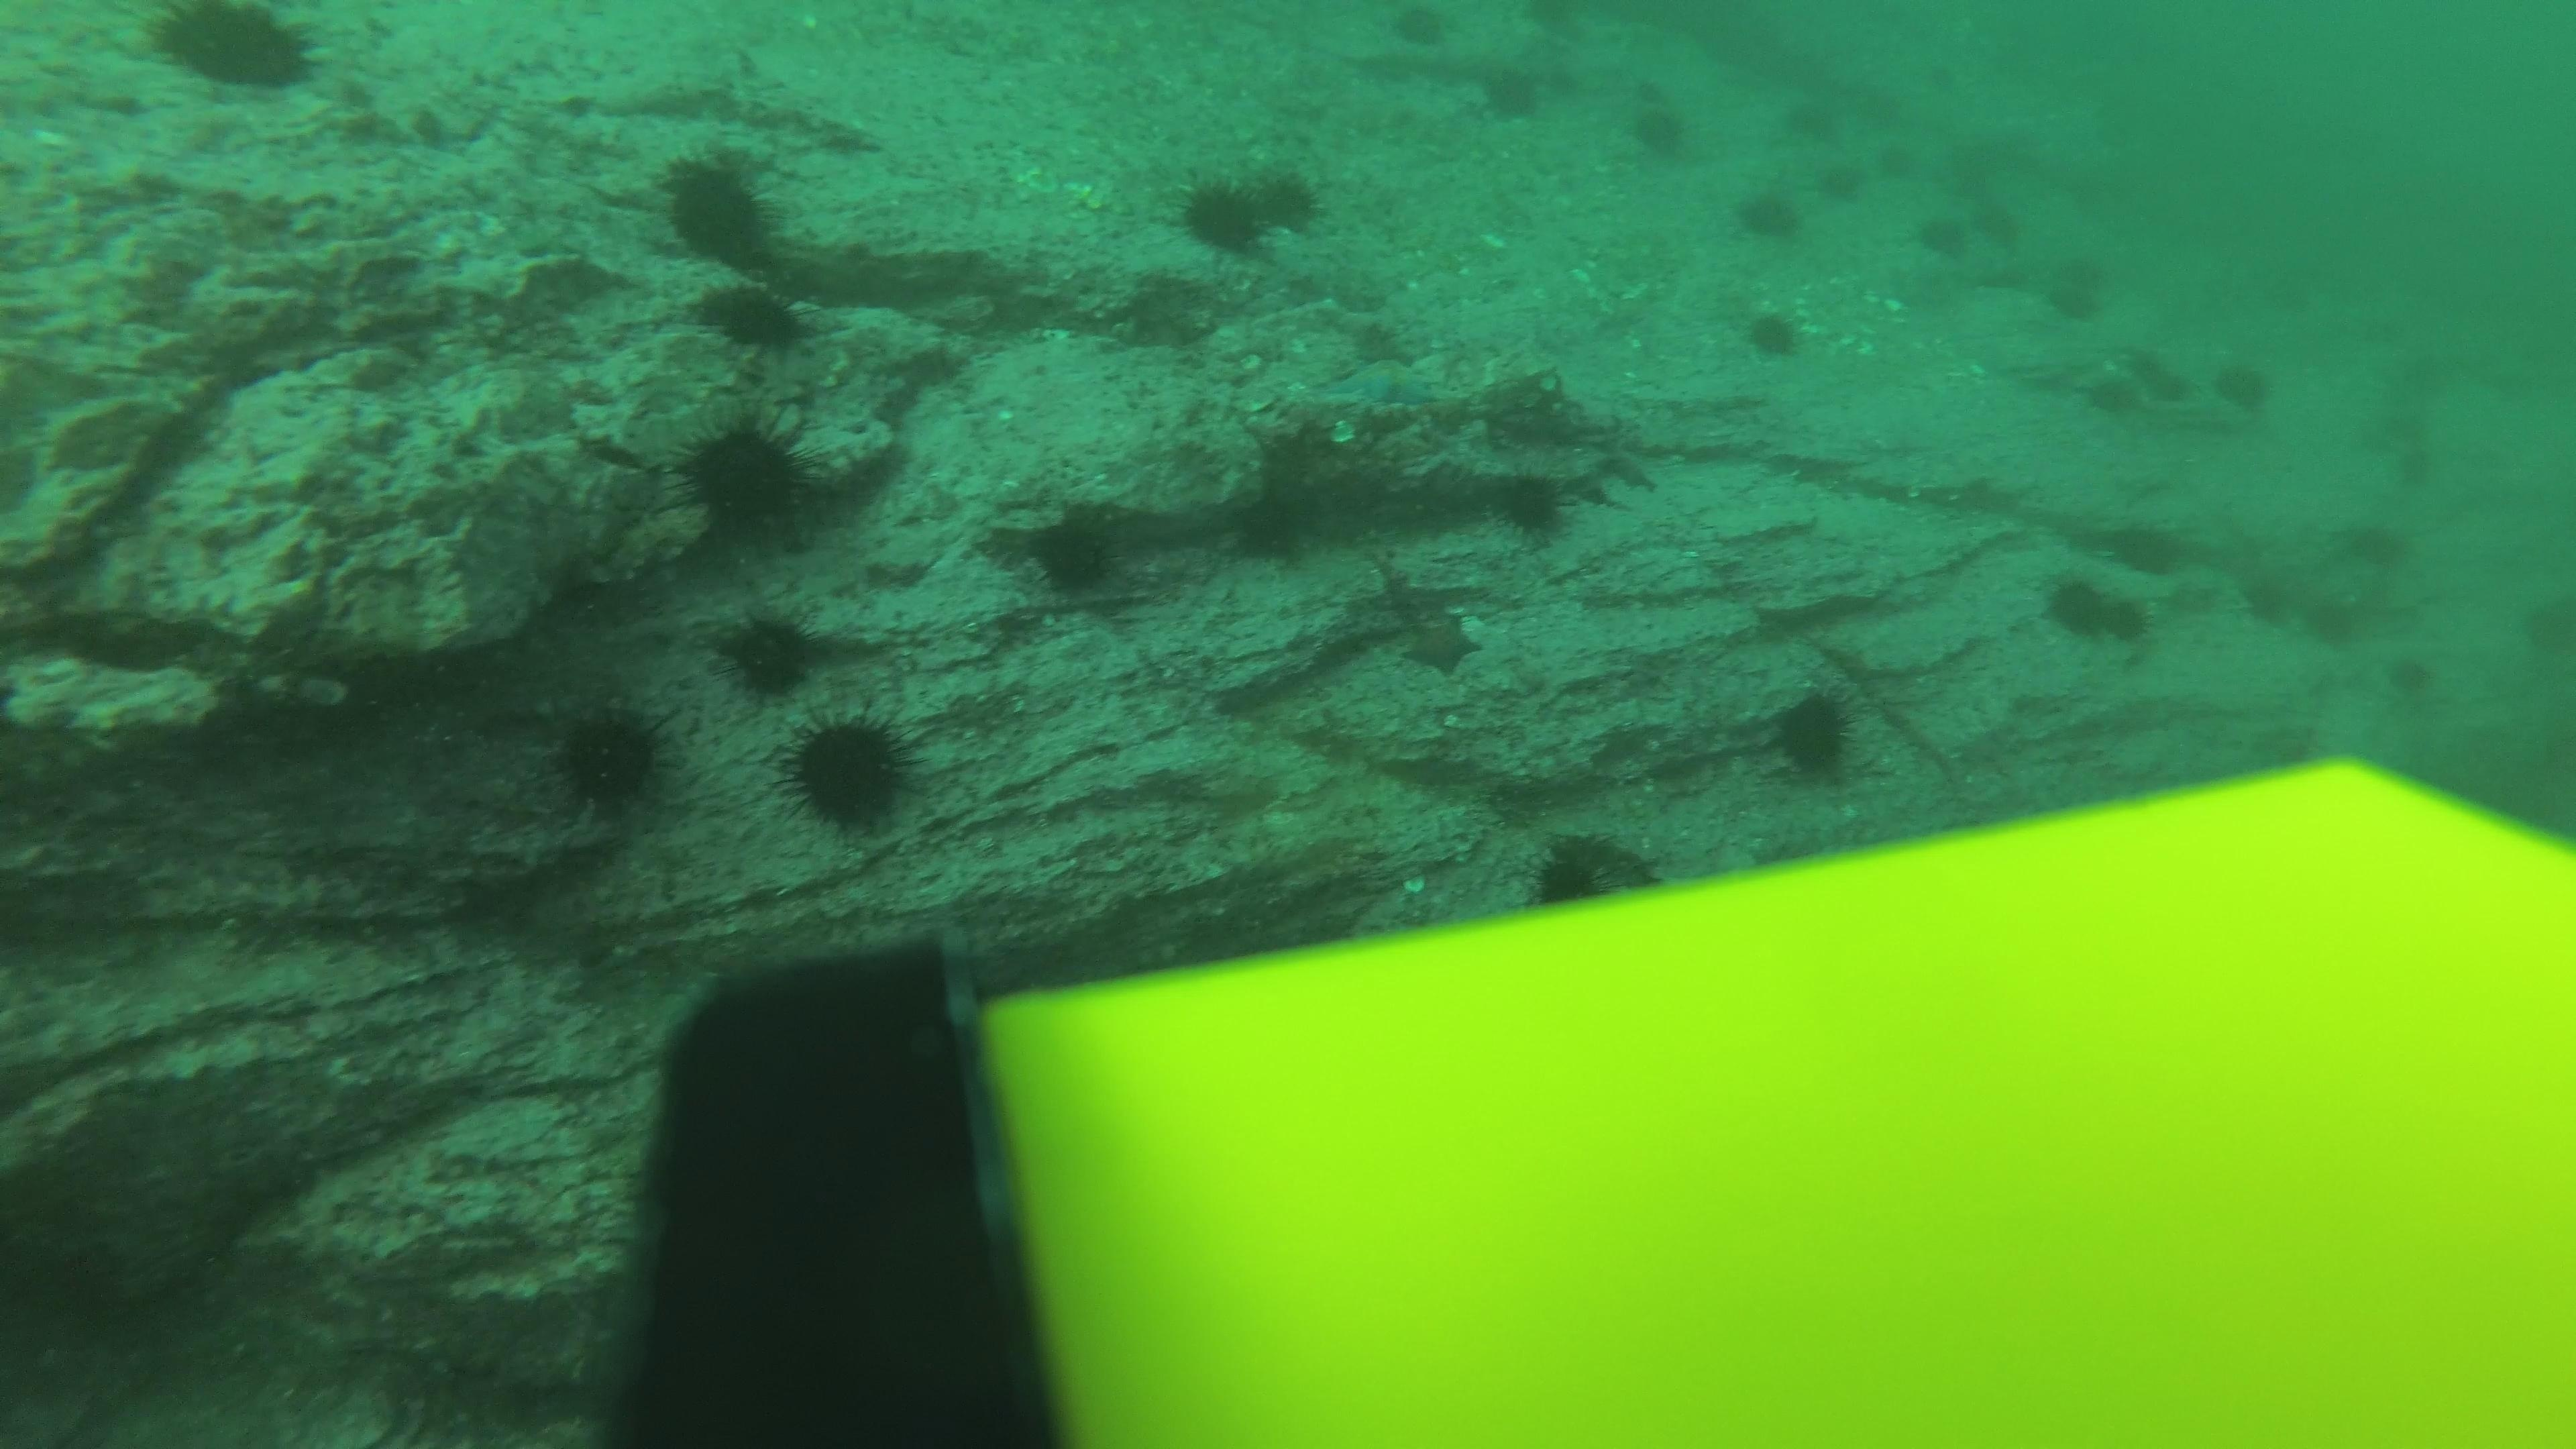echinus: (671, 410, 819, 548), (777, 706, 922, 837), (142, 0, 324, 101), (651, 143, 789, 274), (545, 697, 674, 819), (1523, 824, 1668, 913), (1012, 502, 1134, 607), (1759, 681, 1874, 791), (711, 605, 828, 702), (692, 272, 812, 357), (1171, 172, 1258, 260), (1490, 467, 1582, 545), (1251, 161, 1336, 237), (1470, 58, 1552, 127), (1730, 180, 1808, 246), (2047, 573, 2109, 640), (1739, 303, 1806, 364), (1629, 106, 1684, 156), (2102, 598, 2158, 646), (2217, 363, 2273, 410), (1787, 103, 1845, 145), (2245, 577, 2295, 625), (2355, 527, 2410, 570), (2091, 373, 2144, 414), (1396, 9, 1445, 50), (2316, 602, 2360, 644), (2049, 287, 2097, 322), (1925, 218, 1967, 257), (2061, 257, 2104, 292), (1821, 166, 1859, 200), (2392, 416, 2431, 449), (2153, 372, 2192, 403), (2401, 448, 2431, 487), (2396, 658, 2431, 690), (1882, 150, 1918, 180), (2360, 430, 2396, 458), (2132, 354, 2166, 380), (1928, 65, 1955, 88)
starfish: (1315, 352, 1449, 414), (1392, 607, 1486, 679), (1594, 449, 1661, 497)
